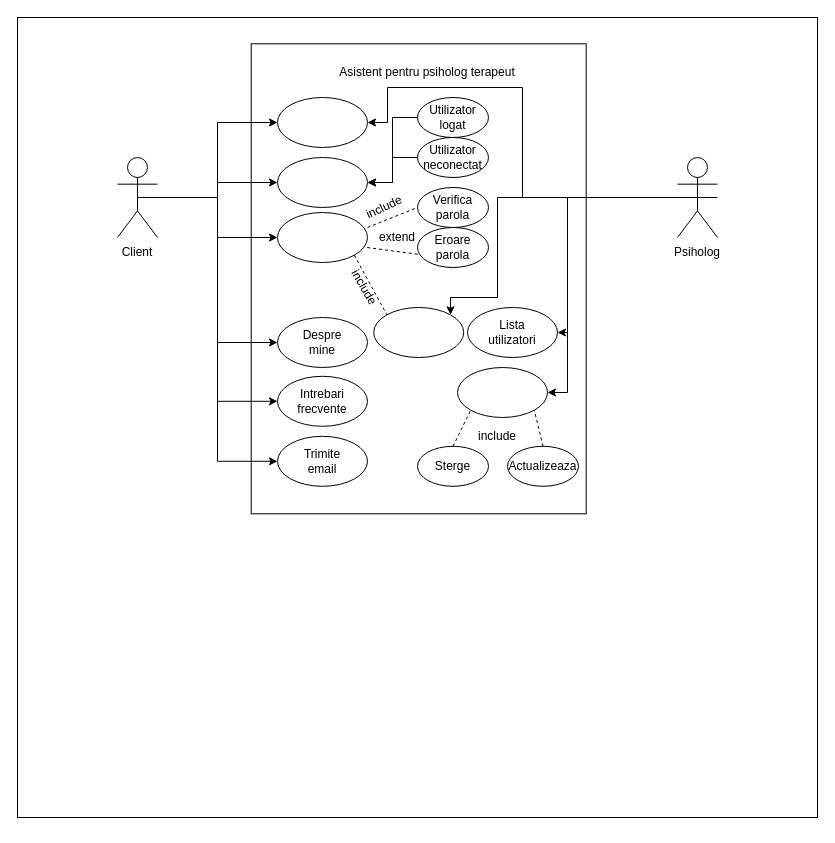
The diagram is 835 pixels wide and 843 high, and some of its shapes have lost their labels. Here are the shapes that lost their labels. From the top down, the centre of each, then its label:
(322,122): Pagina principala
(322,182): Programare online
(322,237): Log in
(418,332): Deconectare
(502,392): Lista pacienti
